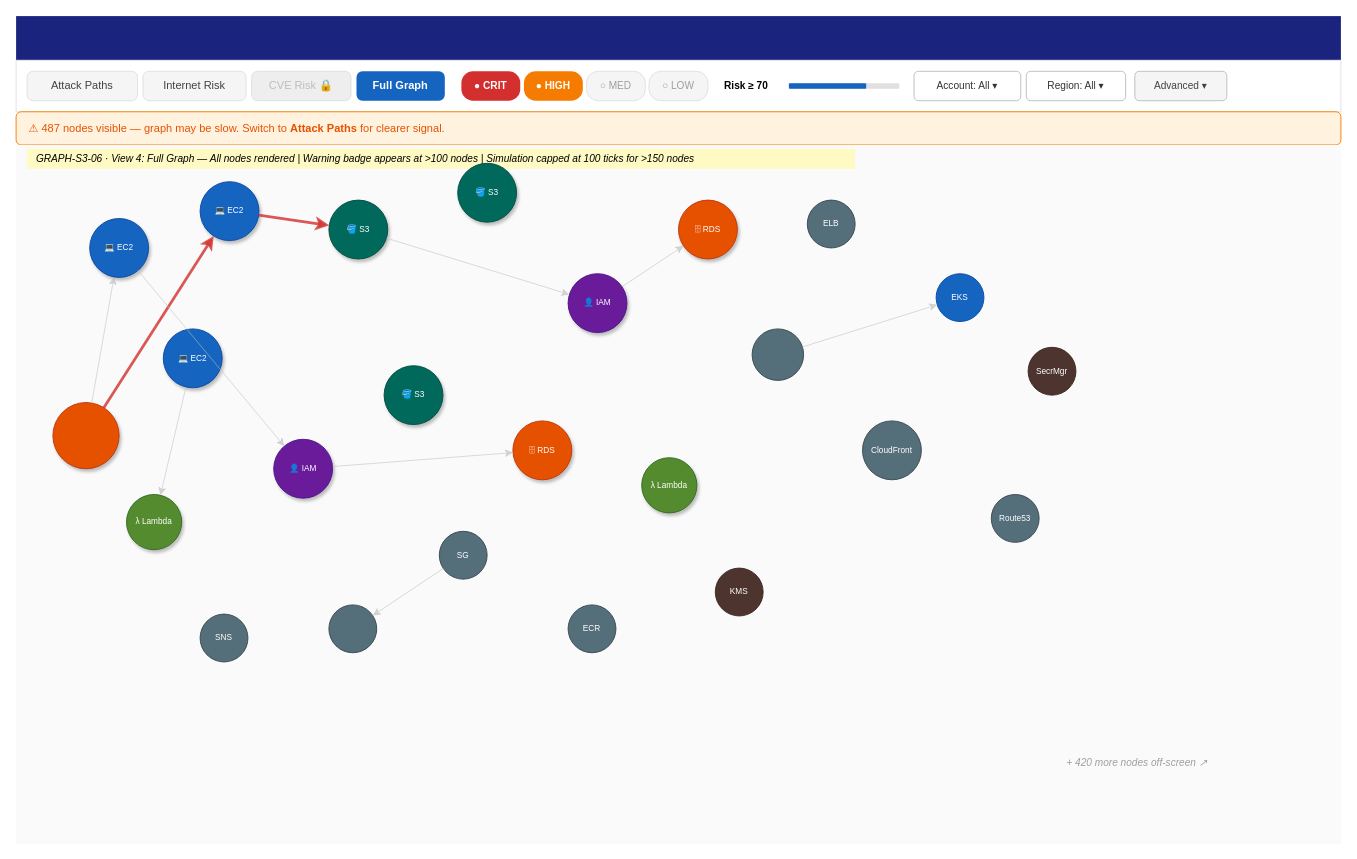
Some shapes in this 1357 by 859 pixel diagram are drawn without their labels. The shapes that lost their labels are listed below. From the top down, each one's centre as x and y in pixels, then its label:
[678,38]: /threats/graph?view=full_graph&sev=CRIT,HIGH&risk=70
[777,354]: VPC
[86,436]: 🌐 Internet
[352,628]: SQS
